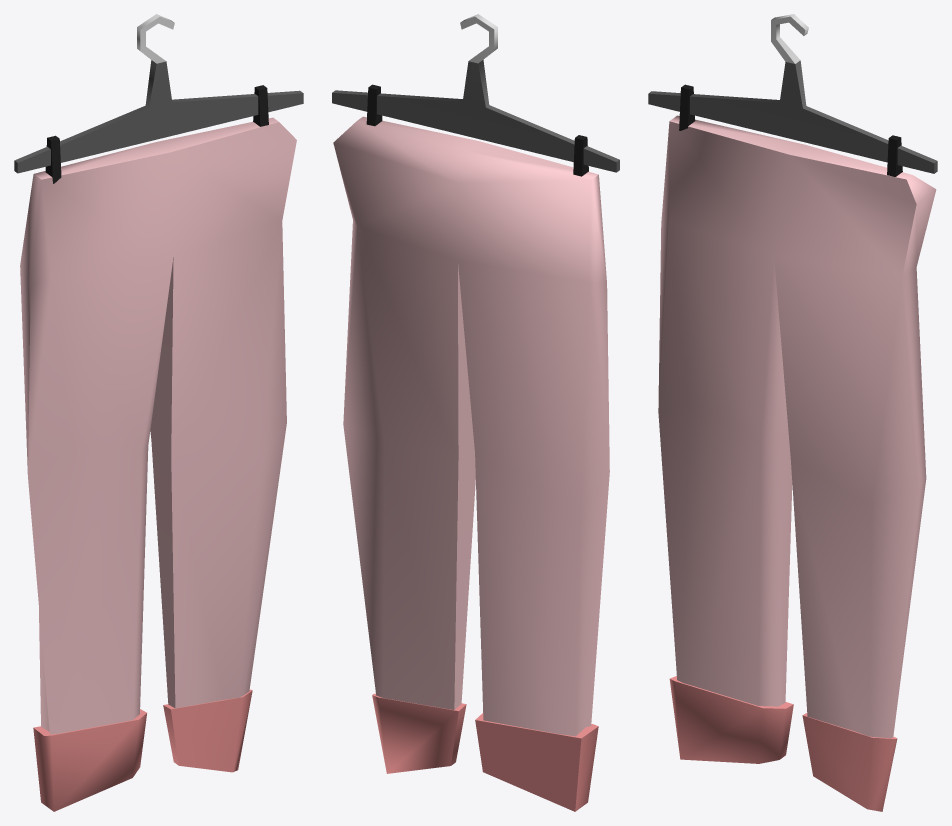
File: clothes_013.glb
3 views of the same model, side by side, from view 1: azimuth 30°, elevation 25°; view 2: azimuth 150°, elevation 25°; view 3: azimuth 330°, elevation 25° (orthographic).
Visible parts, largest first — view 1: clothes_013; view 2: clothes_013; view 3: clothes_013.
Part boxes in pixels (x1,y1,x2,y2): clothes_013: [14, 14, 303, 811]; clothes_013: [332, 14, 619, 811]; clothes_013: [648, 14, 937, 811].
Bounding box in the file's own units: 0.3759 × 0.9794 × 0.0912.
1 material, 1 textured.
